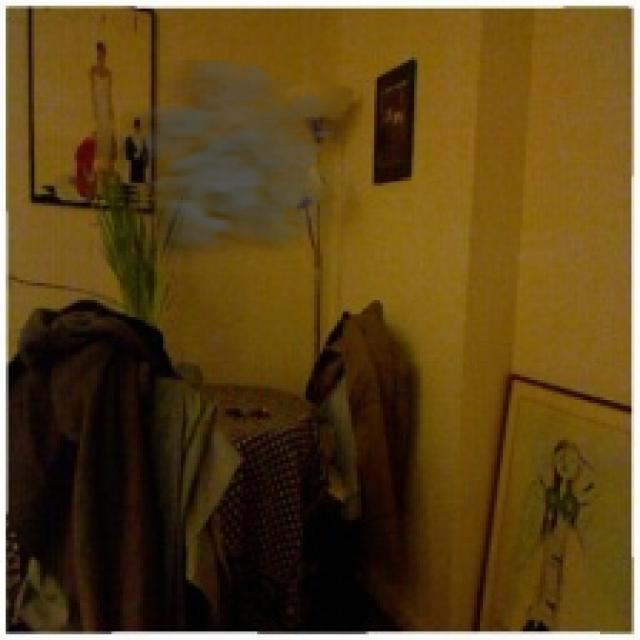smoke: (120, 60, 363, 266)
